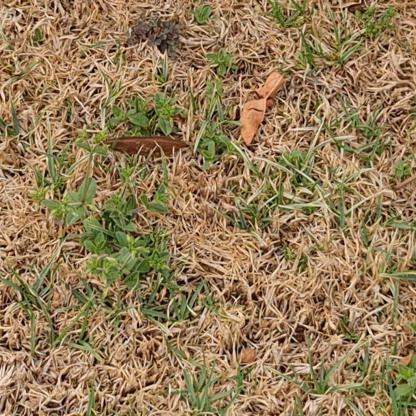Weeds: (32, 133, 168, 303), (106, 85, 229, 164)
